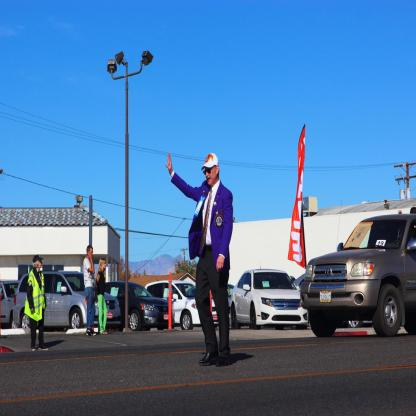Car: (1, 202, 416, 339)
